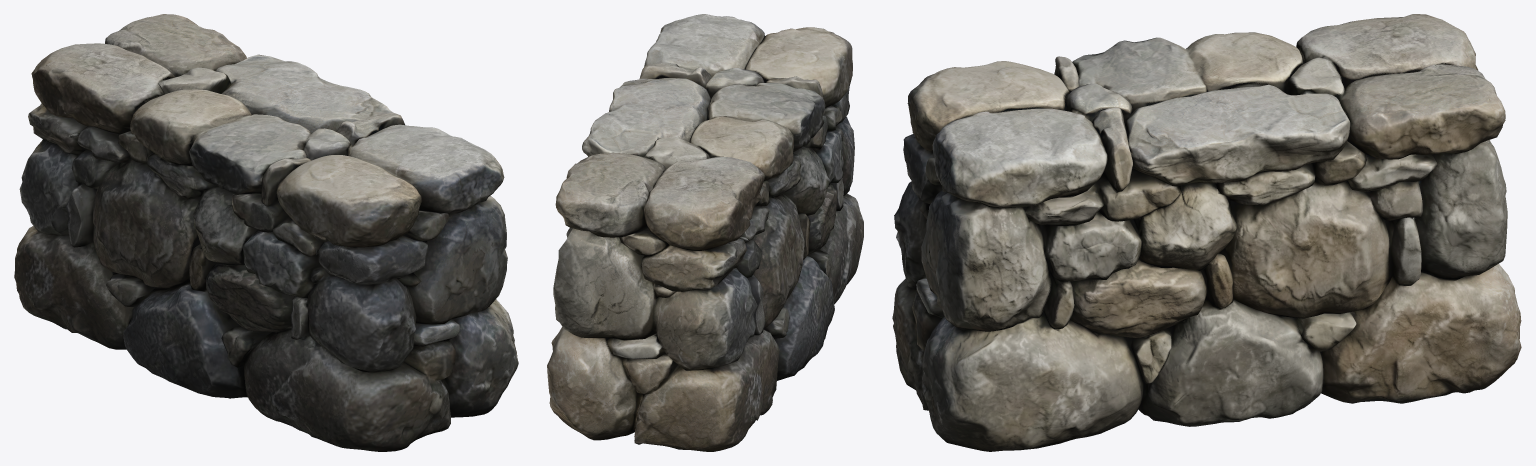
3 views of the same model, side by side, from view 1: azimuth 30°, elevation 25°; view 2: azimuth 150°, elevation 25°; view 3: azimuth 270°, elevation 25° (orthographic). The views are drawn at different scales.
Visible parts, largest first — view 1: tripo_node_a289f612-e7b1-4db7-a7a2-1e5f63c92678; view 2: tripo_node_a289f612-e7b1-4db7-a7a2-1e5f63c92678; view 3: tripo_node_a289f612-e7b1-4db7-a7a2-1e5f63c92678.
Boxes of the visible parts, <box> form: tripo_node_a289f612-e7b1-4db7-a7a2-1e5f63c92678: <box>14,14,518,451</box>; tripo_node_a289f612-e7b1-4db7-a7a2-1e5f63c92678: <box>547,14,863,451</box>; tripo_node_a289f612-e7b1-4db7-a7a2-1e5f63c92678: <box>892,14,1521,451</box>.
Size of the model in its own units: 0.6121 by 0.5164 by 0.9807.
1 material, 1 textured.
